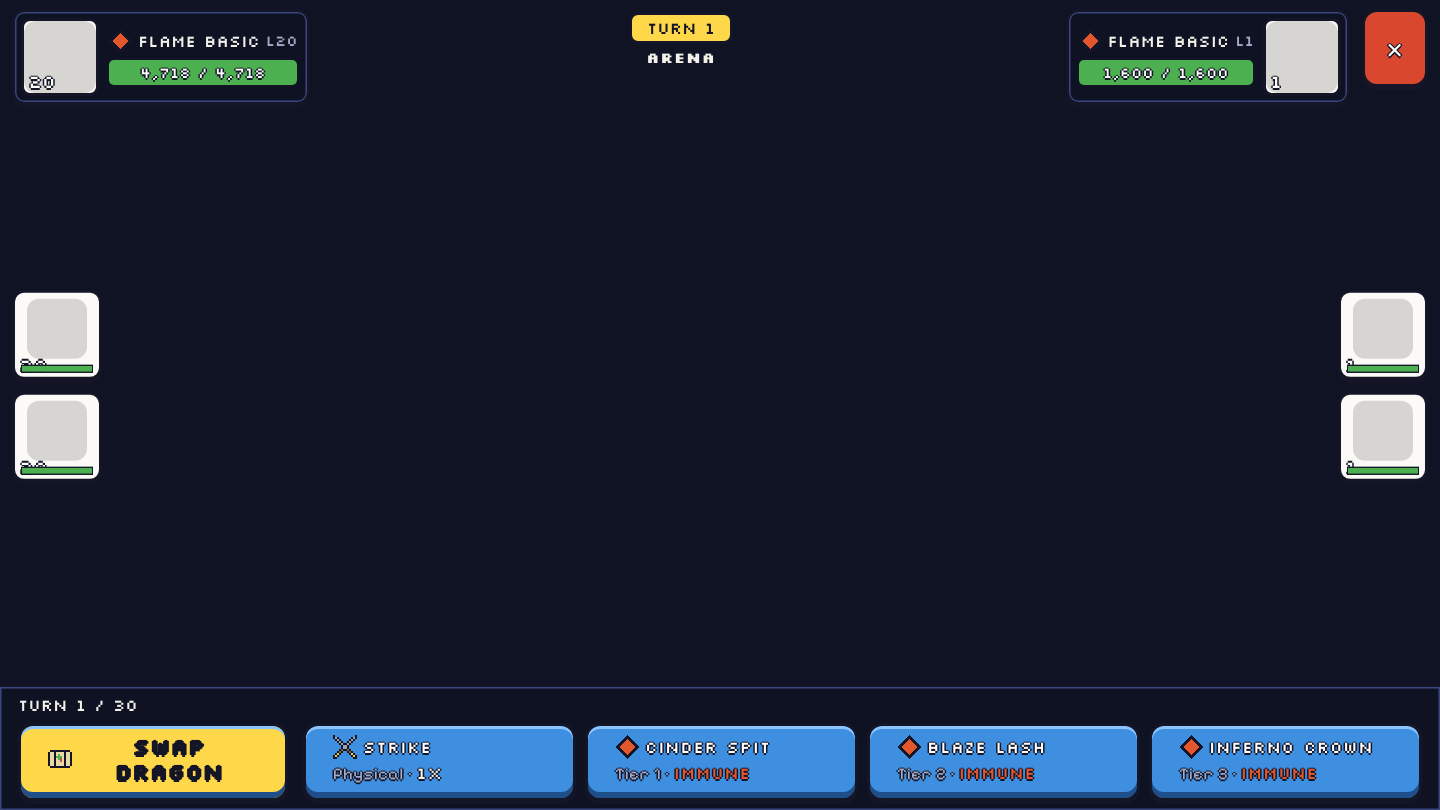
Scenario: BattlePanel › a Tier 3 used rests on the next action, and an immune move stays enabled
The image size is (1440, 810).
Expected: the button "Cinder Spit Tier 1 · IMMUNE" is shown, [585,723,858,801]
Expected: the button "Cinder Spit Tier 1 · IMMUNE" is enabled, [585,723,858,801]
Click the button "Strike Physical · 1x" at (440, 762), box [303,723,576,801]
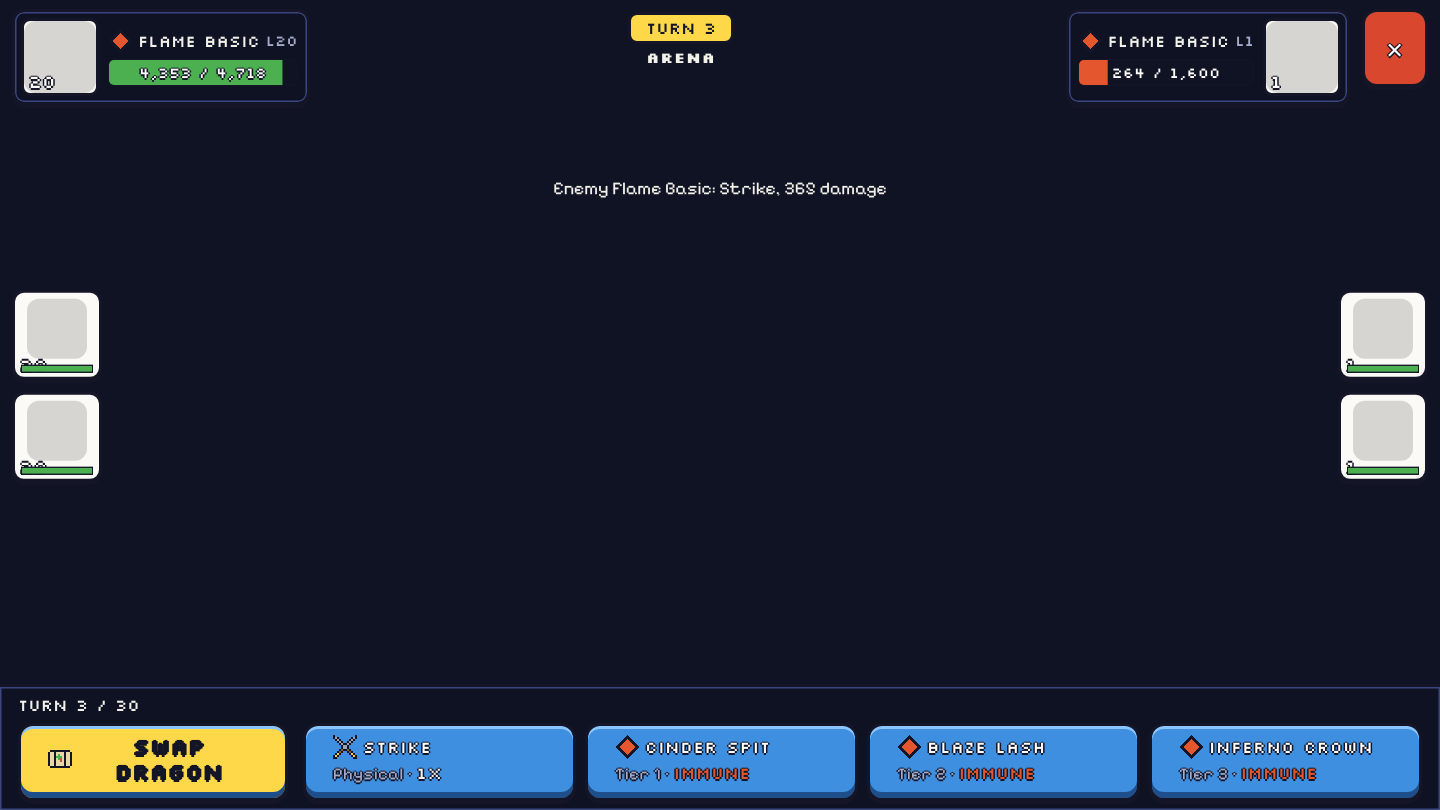
Click the button "Inferno Crown Tier 3 · IMMUNE" at (1286, 762), box [1149,723,1422,801]
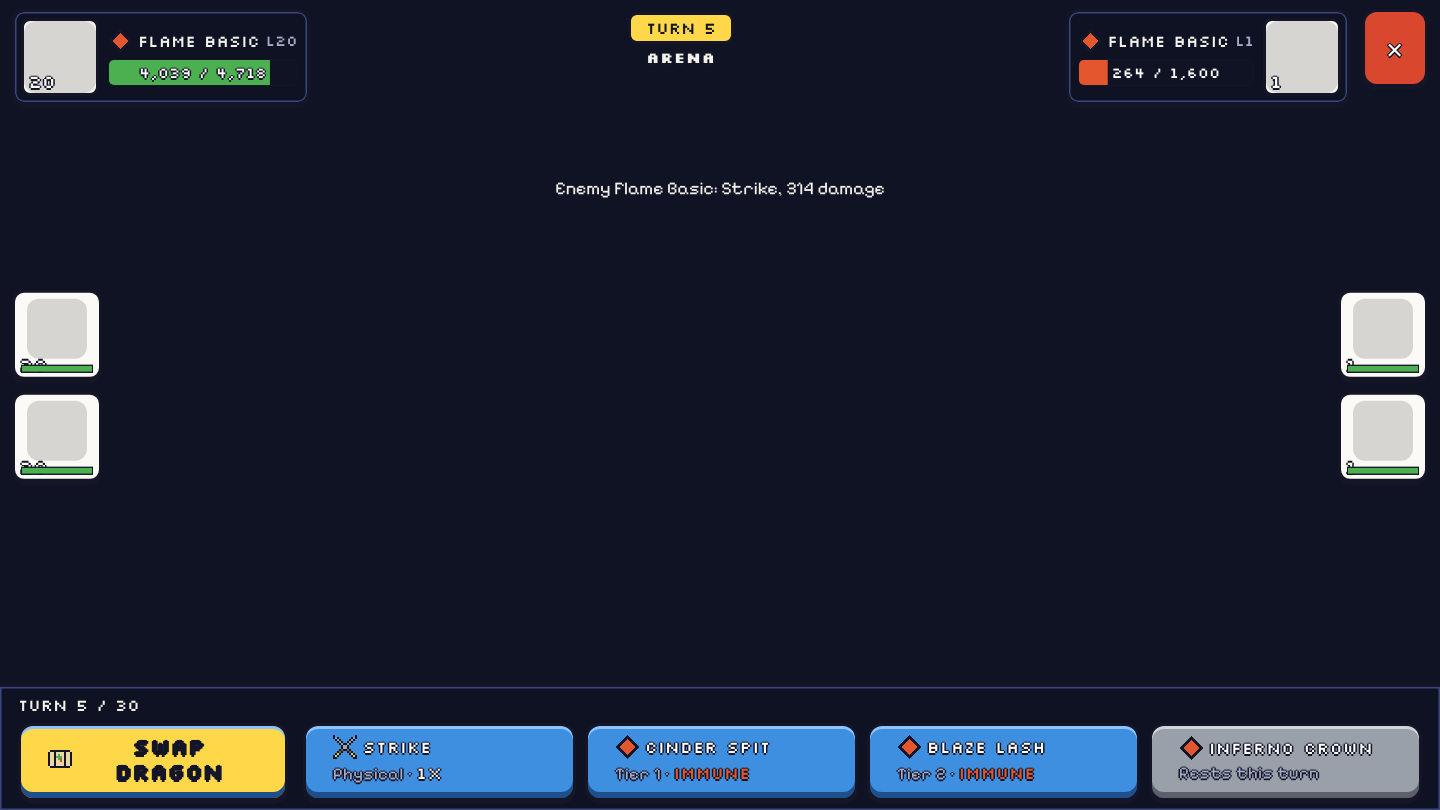
Result: the button "Inferno Crown Rests this turn" is shown at [1149,723,1422,801]
Result: the button "Inferno Crown Rests this turn" is disabled at [1149,723,1422,801]
